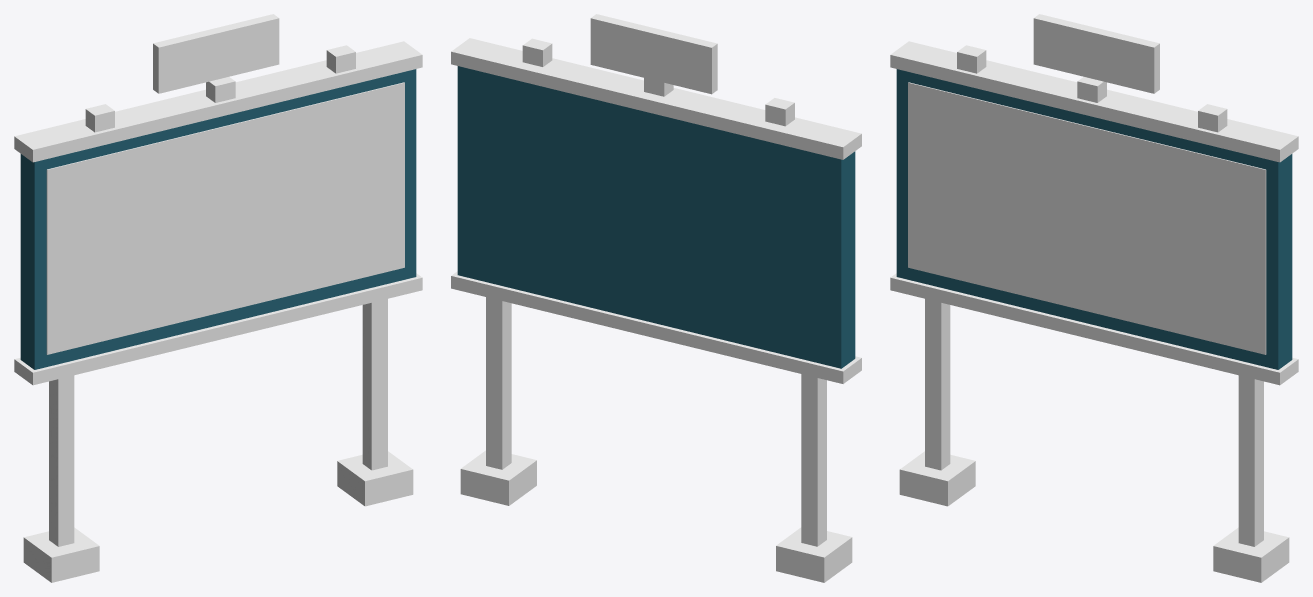
File: decor_scoreboard.obj
3 renders of one model, left to right at view 1: azimuth 30°, elevation 25°; view 2: azimuth 150°, elevation 25°; view 3: azimuth 330°, elevation 25°, orthographic.
Visible parts, largest first — view 1: Body, Lamp; view 2: Body, Lamp; view 3: Body, Lamp.
Boxes of the visible parts, x1,y1,x2,y2 form: Body: (14,14,422,582); Lamp: (85,45,355,132); Body: (451,14,861,582); Lamp: (522,38,794,126); Body: (890,14,1298,582); Lamp: (957,45,1227,132).
Size of the model in its own units: 1.94 by 2.36 by 0.24.
